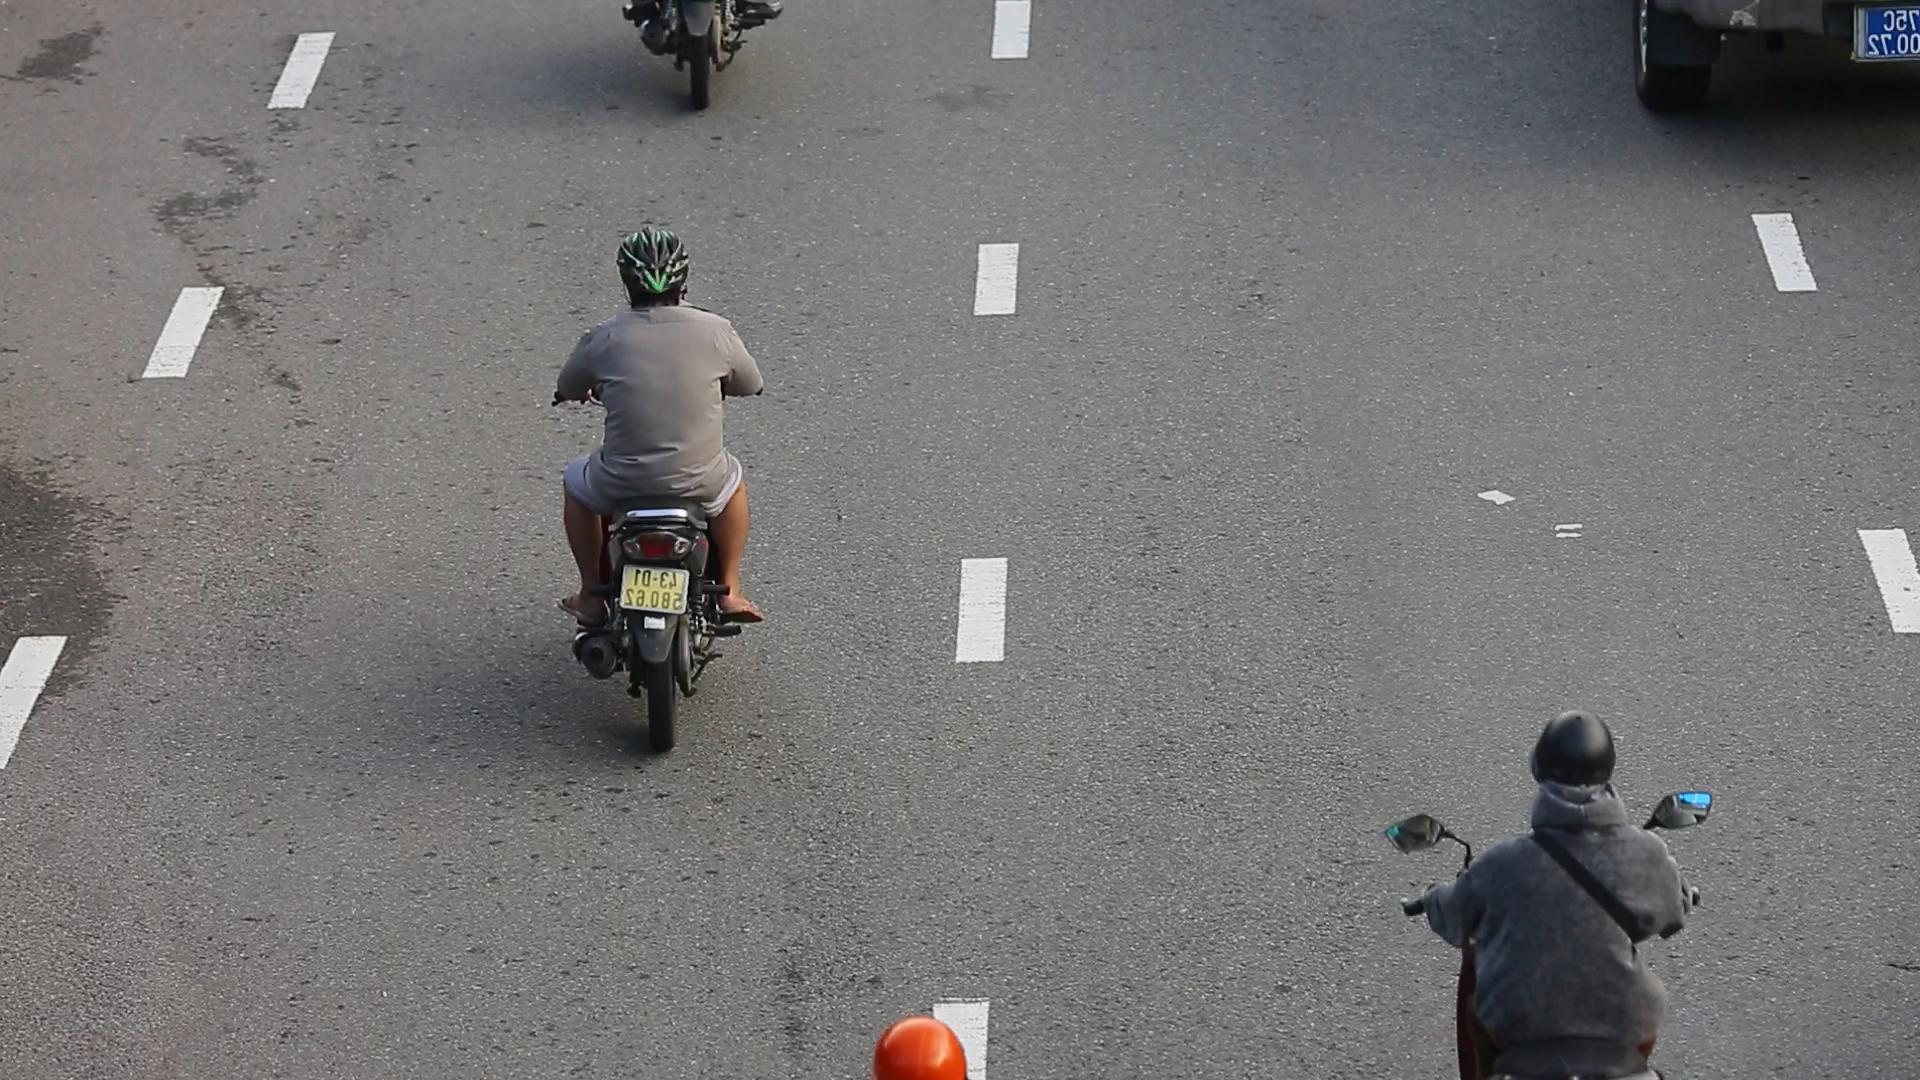motobike: (542, 220, 771, 765)
